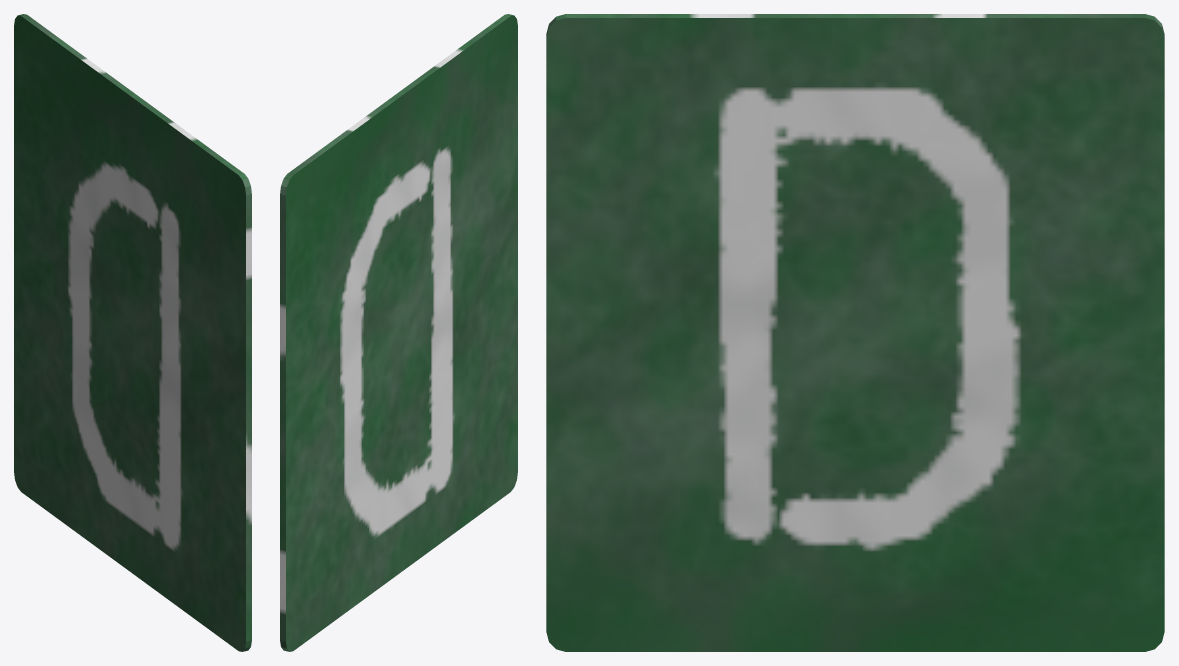
Rendered from DecalD.fbx.
3 views of the same model, side by side, from view 1: azimuth 30°, elevation 25°; view 2: azimuth 150°, elevation 25°; view 3: azimuth 270°, elevation 25° (orthographic). The views are drawn at different scales.
Parts seen in each view (by area): view 1: DecalD; view 2: DecalD; view 3: DecalD.
Boxes of the visible parts, x1,y1,x2,y2 form: DecalD: (14, 14, 251, 651); DecalD: (280, 14, 517, 651); DecalD: (546, 14, 1164, 651).
Bounding box in the file's own units: 5.01e-05 × 0.00385 × 0.0034.
